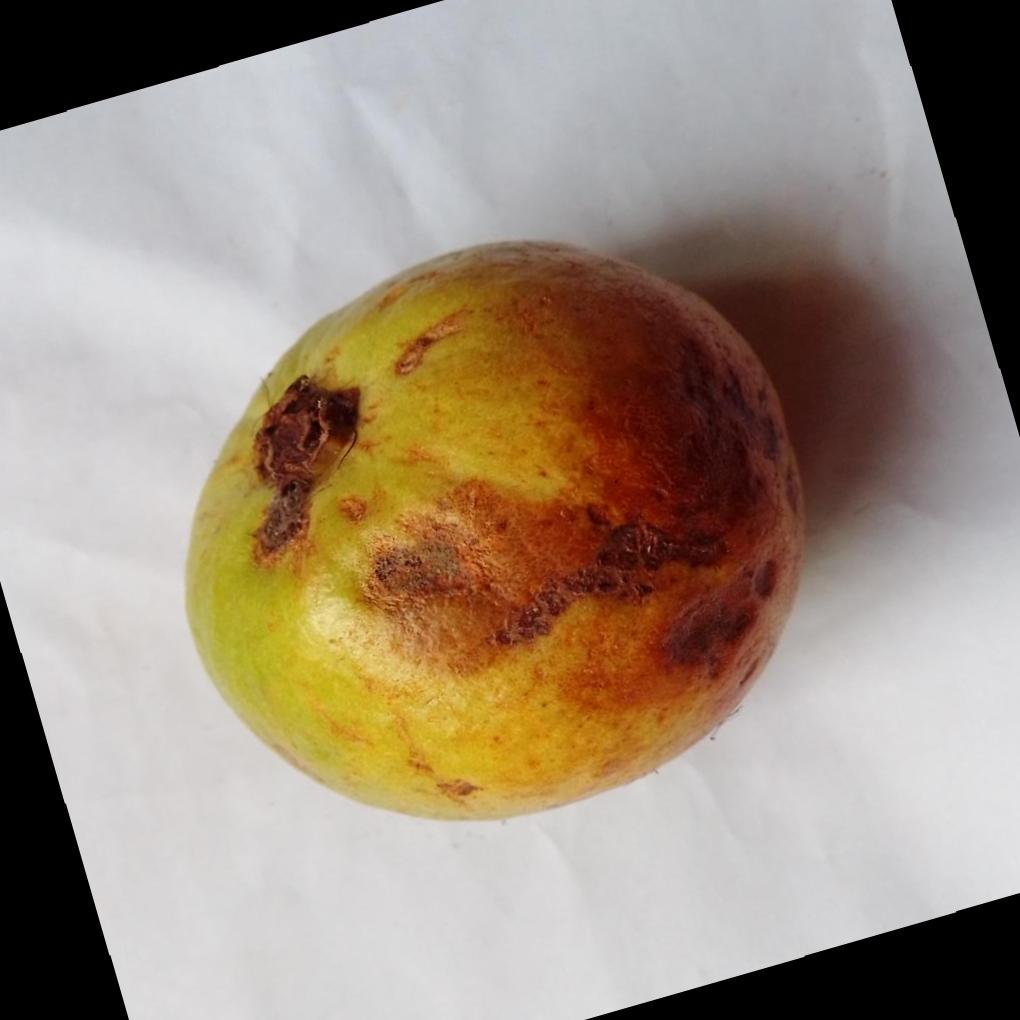FreshOrange: (185, 236, 811, 822)
